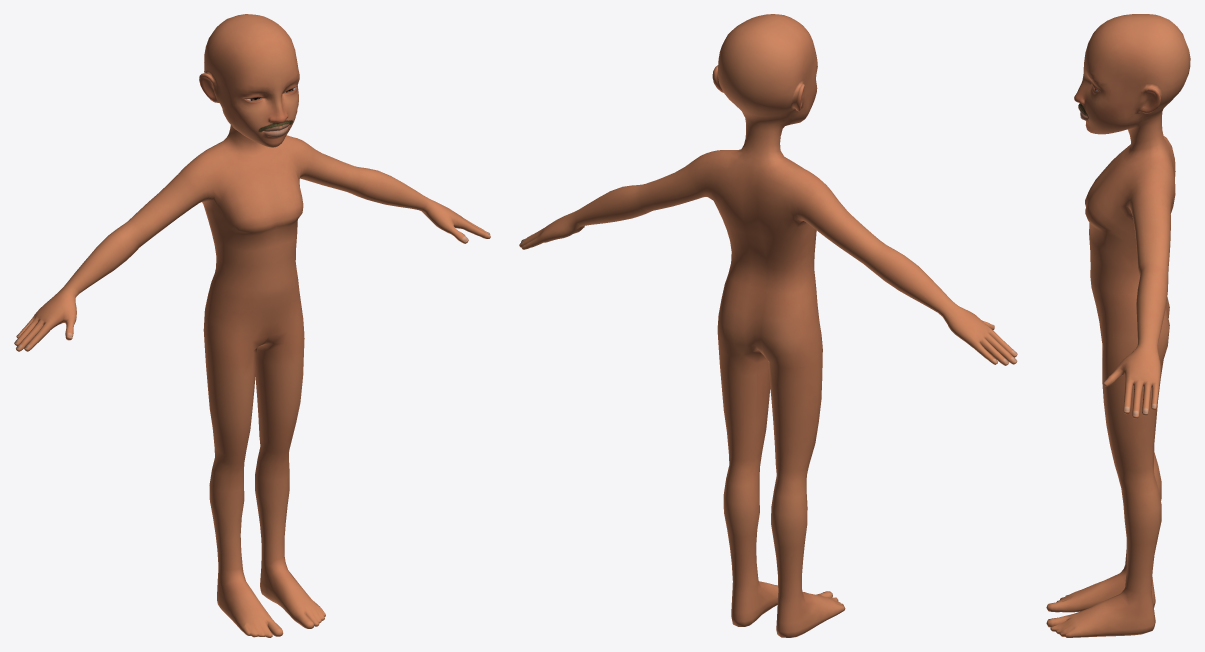
The model's file is frame_0012.glb.
3 views of the same model, side by side, from view 1: azimuth 30°, elevation 25°; view 2: azimuth 150°, elevation 25°; view 3: azimuth 270°, elevation 25° (orthographic). The views are drawn at different scales.
Visible parts, largest first — view 1: frame_0012_head_geo; view 2: frame_0012_head_geo; view 3: frame_0012_head_geo.
Boxes of the visible parts, box(x1,y1,x2,y2) form: frame_0012_head_geo: box(14, 14, 490, 637); frame_0012_head_geo: box(519, 14, 1017, 637); frame_0012_head_geo: box(1046, 14, 1190, 637).
Bounding box in the file's own units: 1.28 × 1.5 × 0.3253.
Materials: 3 (3 with a texture image).
